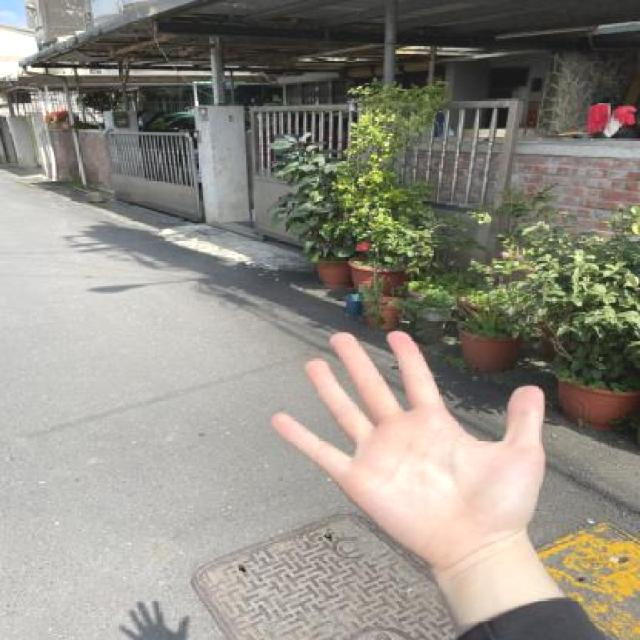no_glove: (260, 319, 562, 575)
